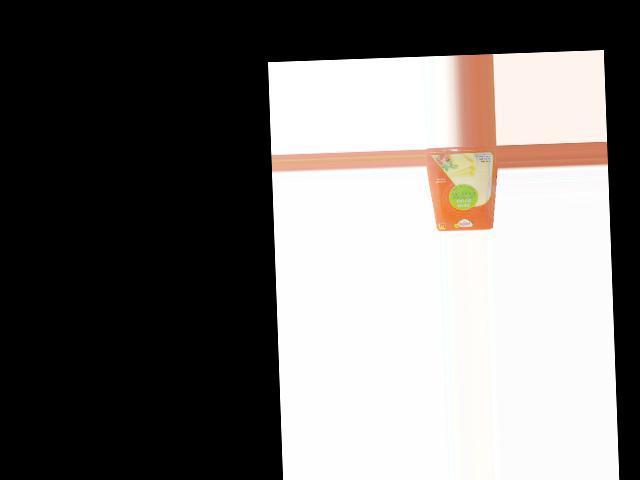cheese: (425, 145, 498, 231)
